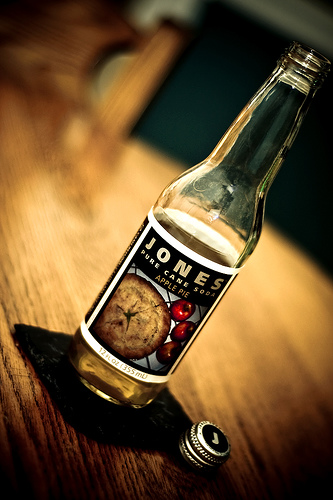emptybottle: (69, 44, 333, 414)
